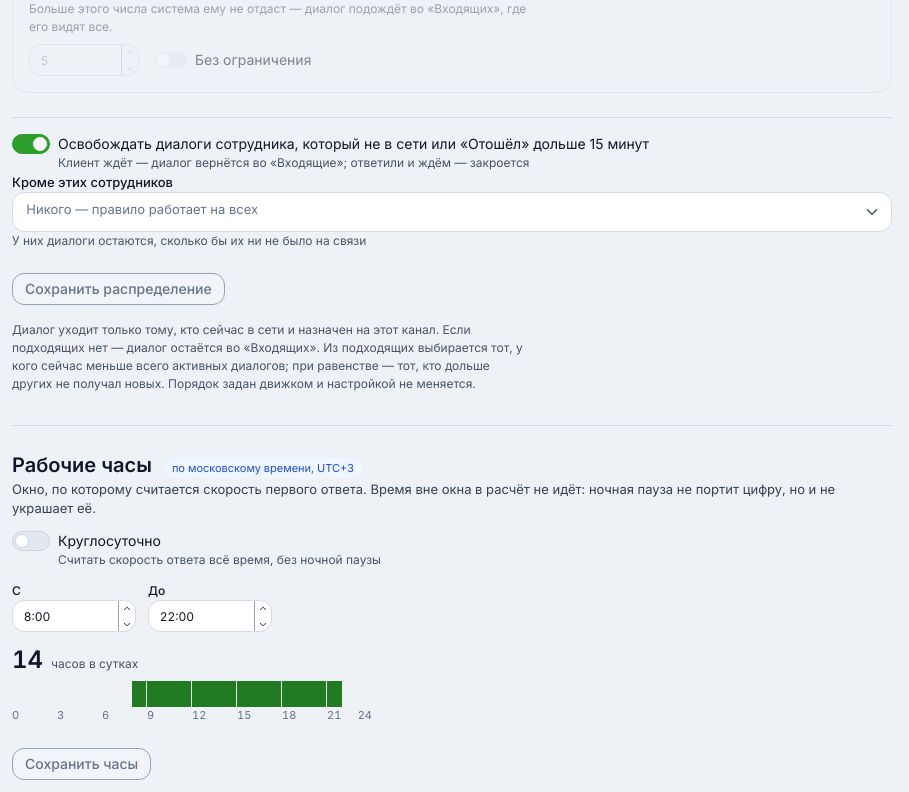
Распределение: окно формой, пояс, предмет правки › вывернутое окно даёт полосу без единой закрашенной клетки
The width and height of the screenshot is (909, 792).
(page scrolled)
Replace the text in the field named "Конец рабочего дня, час по Москве" with "5" at [210, 616], box [148,600,272,632]
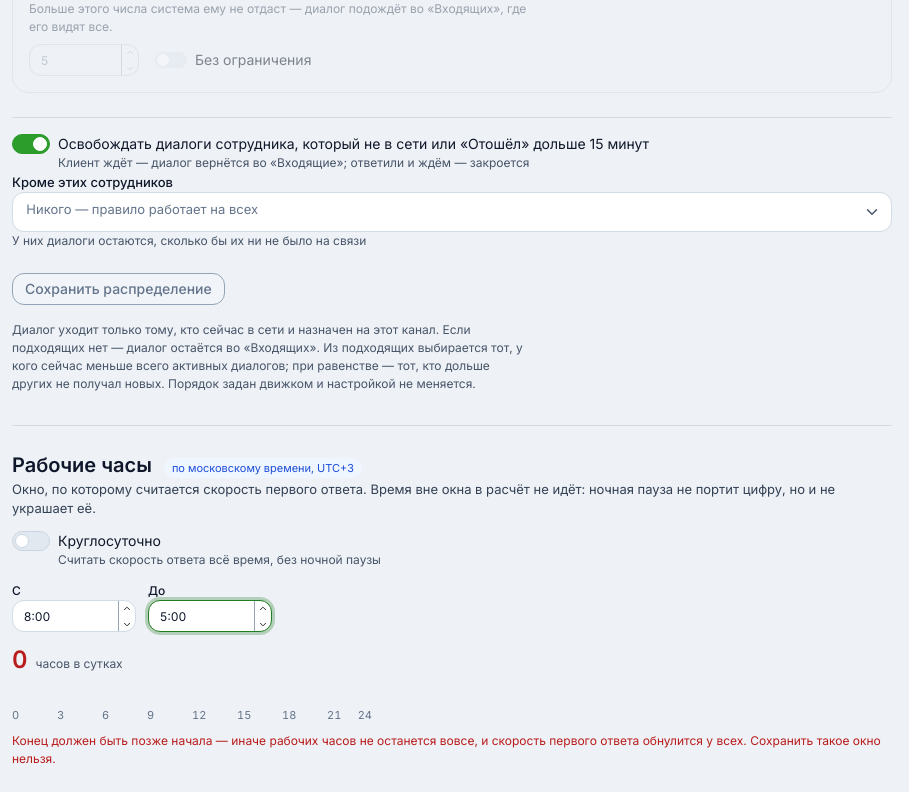
Result: the text "Конец должен быть позже начала" is shown at [12,733,881,766]
